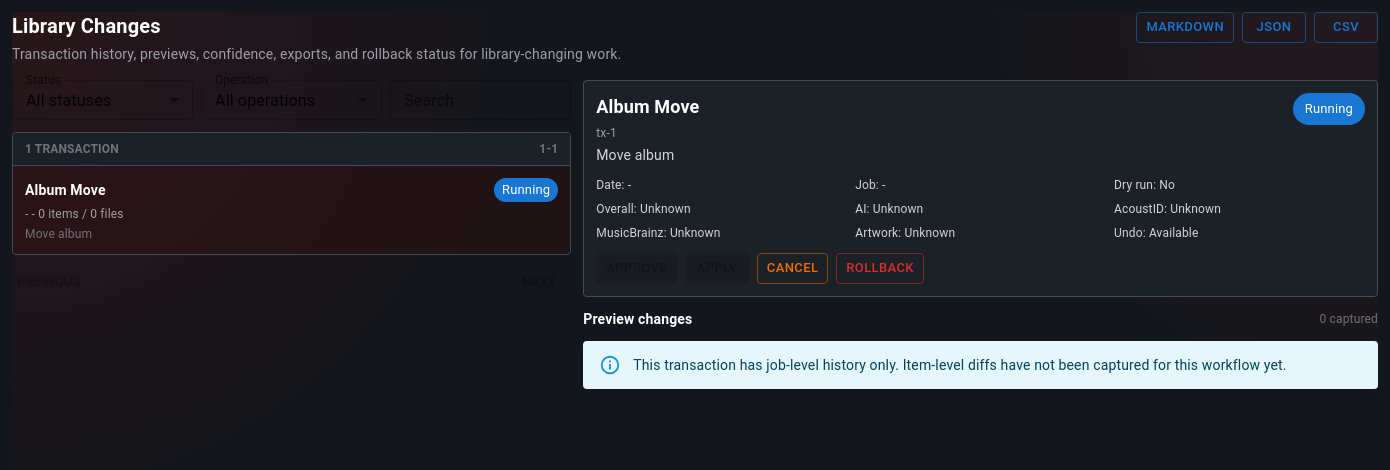
Test: Library Changes 0.4 transaction contract (#348) › follows cancel.allowed rather than inferring from status or family (#356)
This screenshot has width=1390, height=470.
Click the button "Cancel".
click(793, 268)  # box [757,253,828,284]
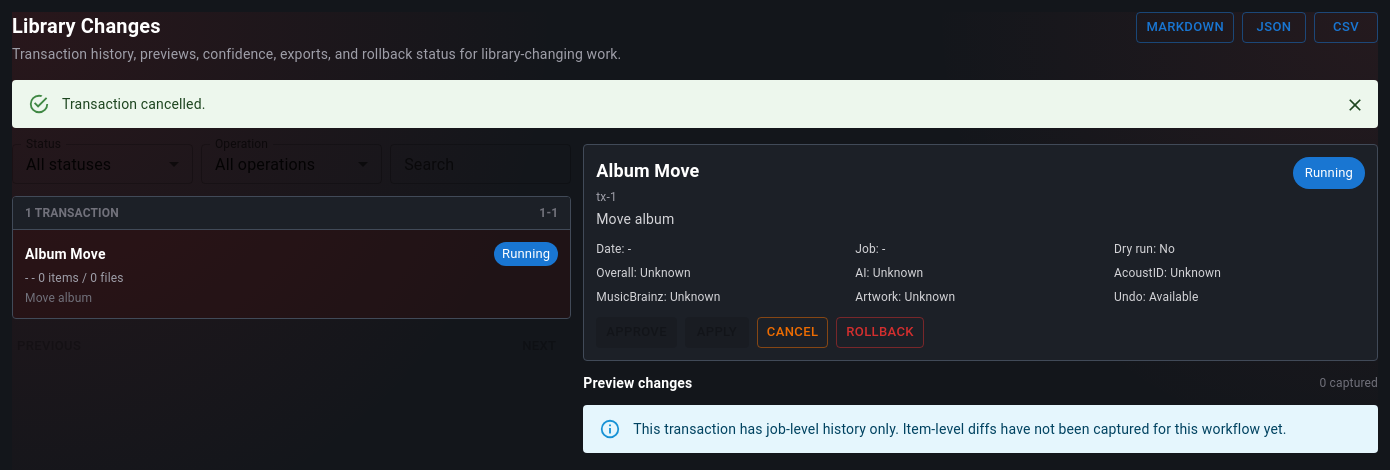
Result: the text "Transaction cancelled." is shown at [62,96,206,112]
